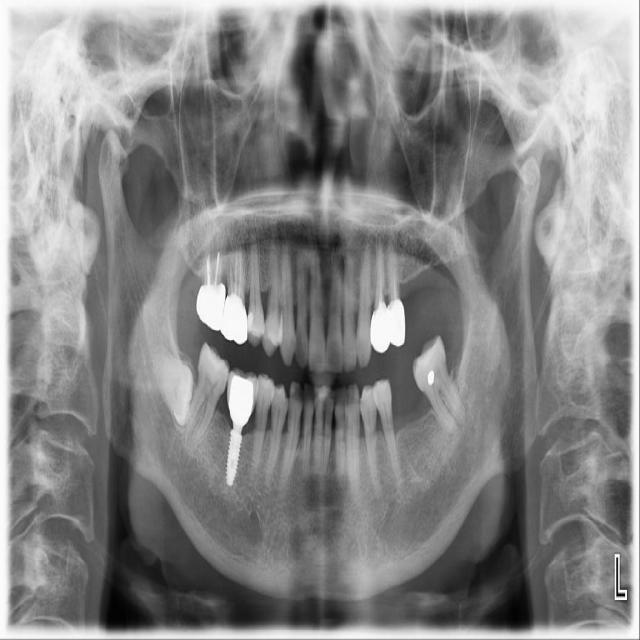Crown: (197, 283, 248, 345), (227, 367, 258, 428), (371, 298, 406, 352)
Filling: (245, 312, 255, 333), (427, 370, 436, 386)
Implant: (226, 428, 241, 487)
Missing teeth: (389, 369, 434, 439)
Root Canal Treatment: (237, 250, 241, 289), (215, 252, 219, 282), (205, 251, 209, 280), (235, 251, 237, 293), (229, 265, 231, 293)
impacted tooth: (147, 345, 192, 424)
